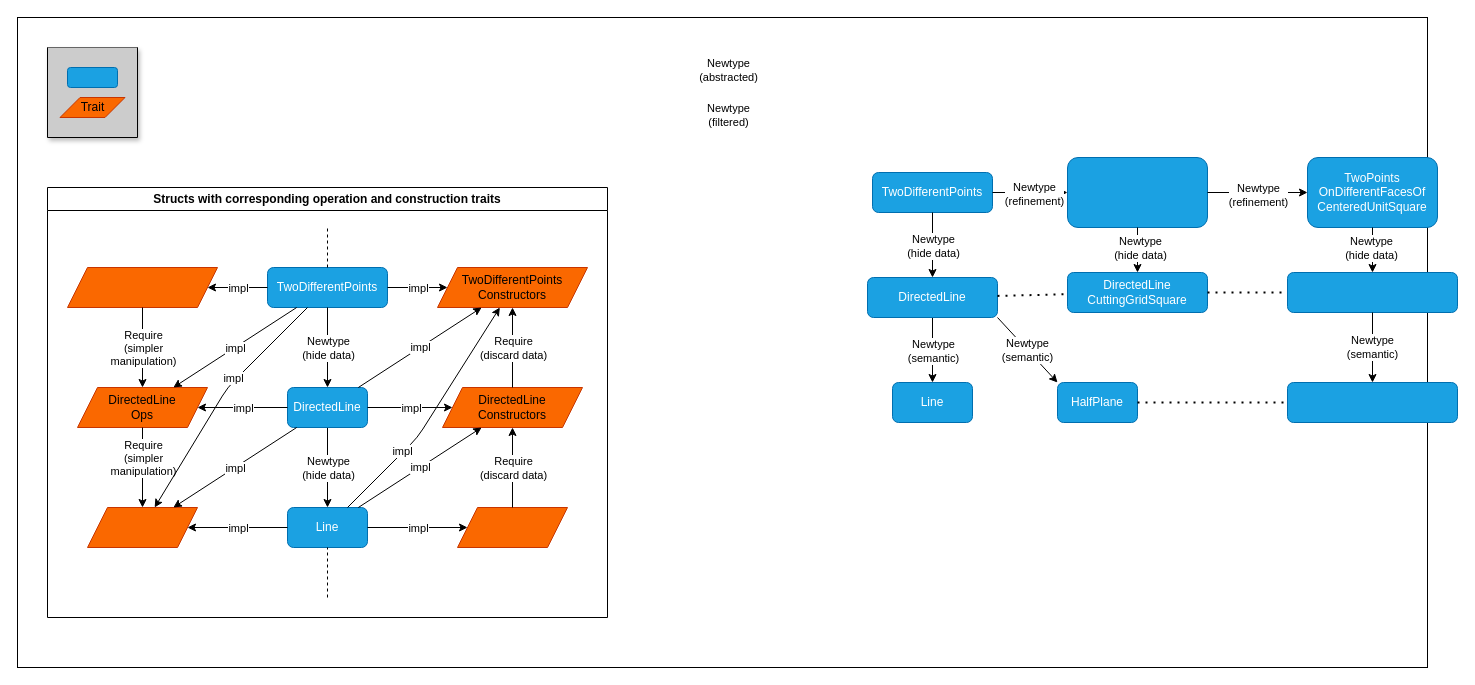
Some shapes in this 1475 by 685 pixel diagram are drawn without their labels. The centre of each missing label's shape, as x and y in pixels:
DirectedLine CuttingCenteredUnitSquare: the point at 1372,292
HalfPlane CuttingCenteredUnitSquare: the point at 1372,402
Line Constructors: the point at 512,527
Line Ops: the point at 142,527
Struct: the point at 92,77
TwoDifferentPoints Ops: the point at 142,287
TwoPoints OnDifferentFacesOf GridSquare: the point at 1137,192
